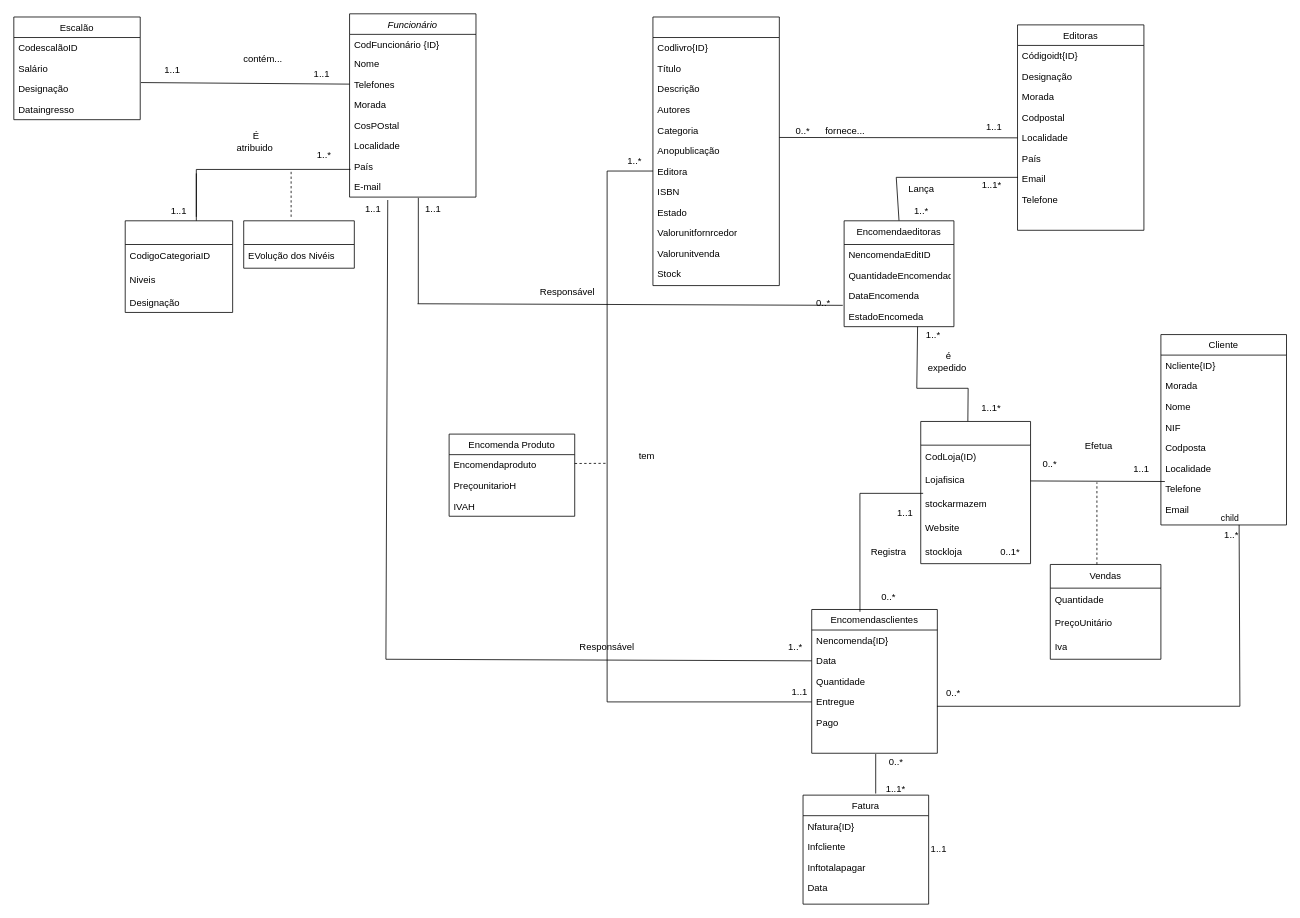
This 1300x918 diagram has some shape labels left out. The shapes that lost their labels are listed below. From the top down, each one's box as (x1, y1, x2, y2) in pixels, then its label:
(652, 16, 779, 286): Livros
(243, 220, 354, 268): HIstórico Categorias
(124, 220, 233, 312): CategoriaFuncionário
(920, 421, 1031, 564): Lojas
